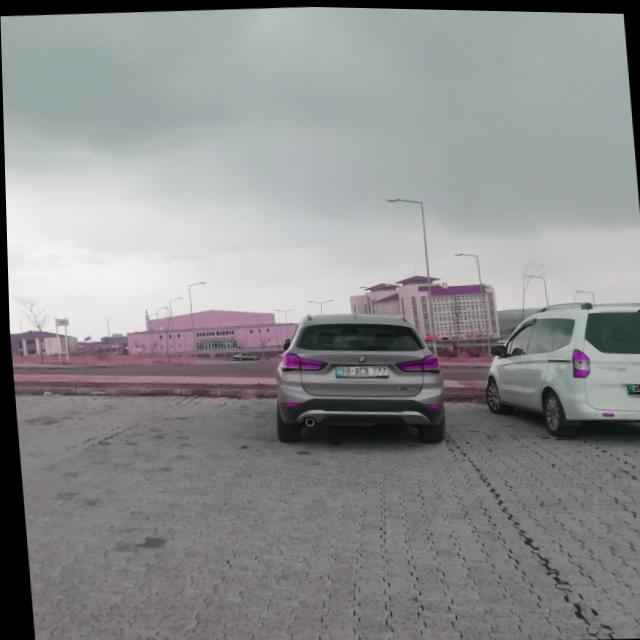license_plate: (335, 363, 387, 377), (625, 382, 640, 395)
